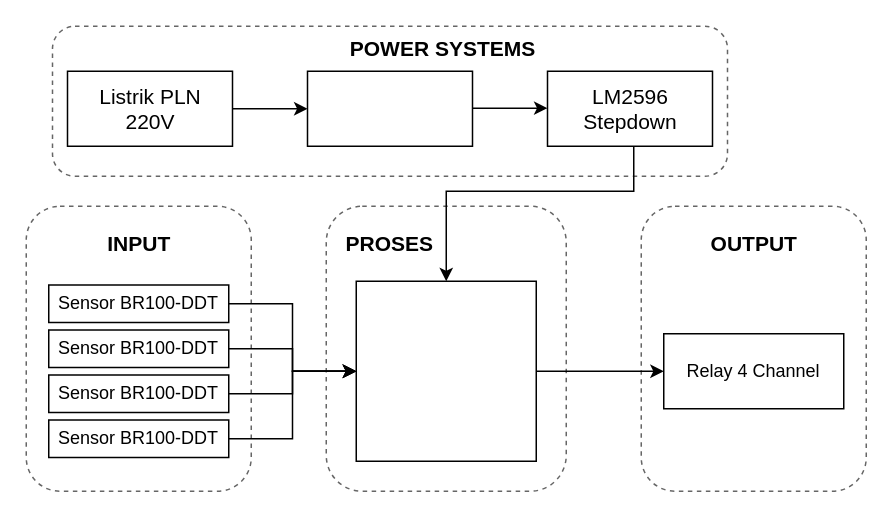
Some shapes in this 893 by 518 pixel diagram are drawn without their labels. Here are the shapes that lost their labels. From the top down, the box of each, then its label:
(306, 70, 472, 146): Adaptor 12V 3A
(355, 280, 536, 461): Arduino Uno
